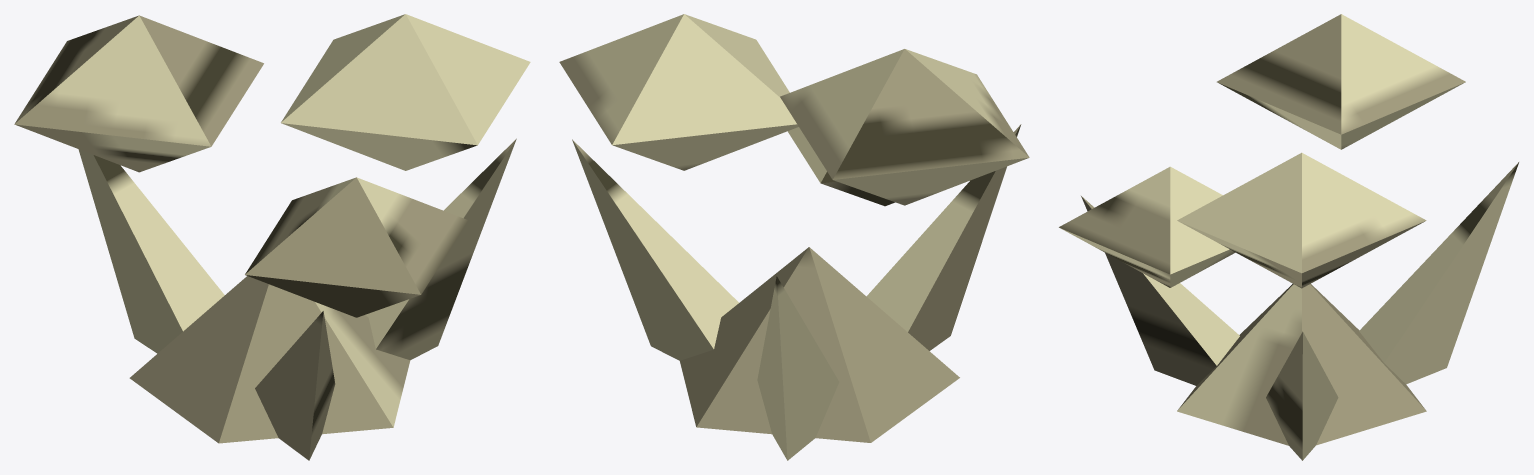
The model's file is flower_yellow.fbx.
3 views of the same model, side by side, from view 1: azimuth 30°, elevation 25°; view 2: azimuth 150°, elevation 25°; view 3: azimuth 270°, elevation 25° (orthographic). The views are drawn at different scales.
Parts seen in each view (by area): view 1: prop; view 2: prop; view 3: prop.
Boxes of the visible parts, <box> form: prop: <box>14,14,530,460</box>; prop: <box>559,14,1029,460</box>; prop: <box>1059,14,1518,460</box>.
Bounding box in the file's own units: 0.375 × 0.277 × 0.3505.
